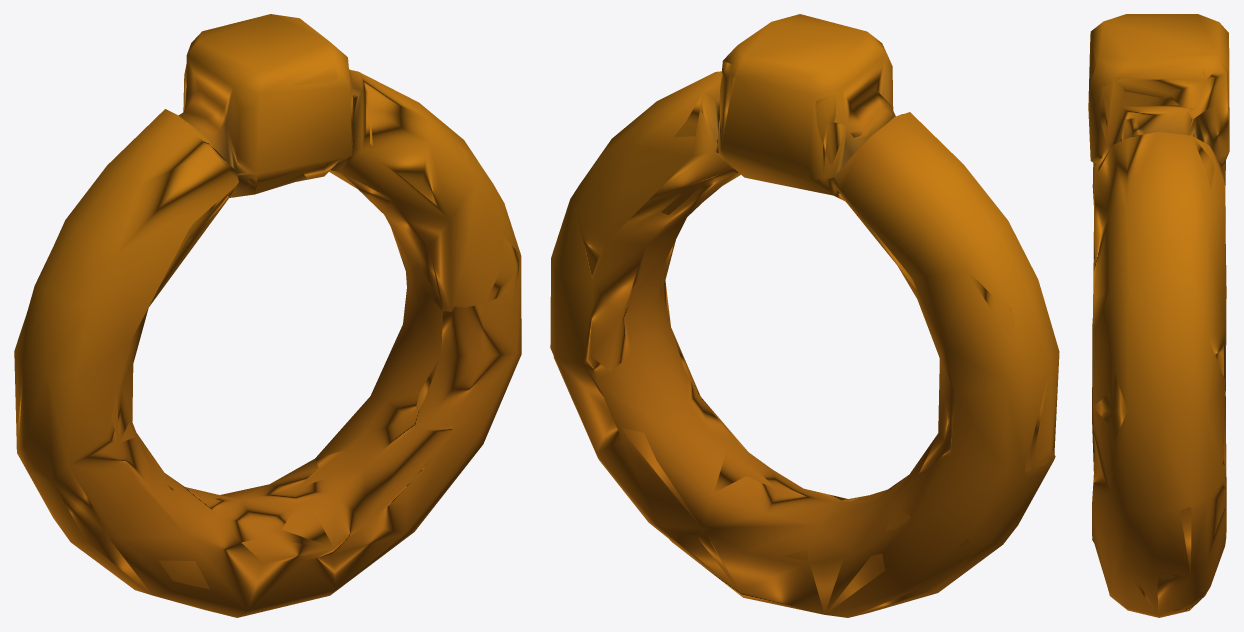
The model's file is gen3d-golden-ring-lod1.glb.
3 renders of one model, left to right at view 1: azimuth 30°, elevation 25°; view 2: azimuth 150°, elevation 25°; view 3: azimuth 270°, elevation 25°, orthographic.
Visible parts, largest first — view 1: part_0; view 2: part_0; view 3: part_0.
Part boxes in pixels (bbox=[...]): part_0: bbox=[14, 14, 521, 617]; part_0: bbox=[550, 14, 1059, 617]; part_0: bbox=[1088, 14, 1229, 617].
Size of the model in its own units: 0.9152 by 0.9993 by 0.23.
